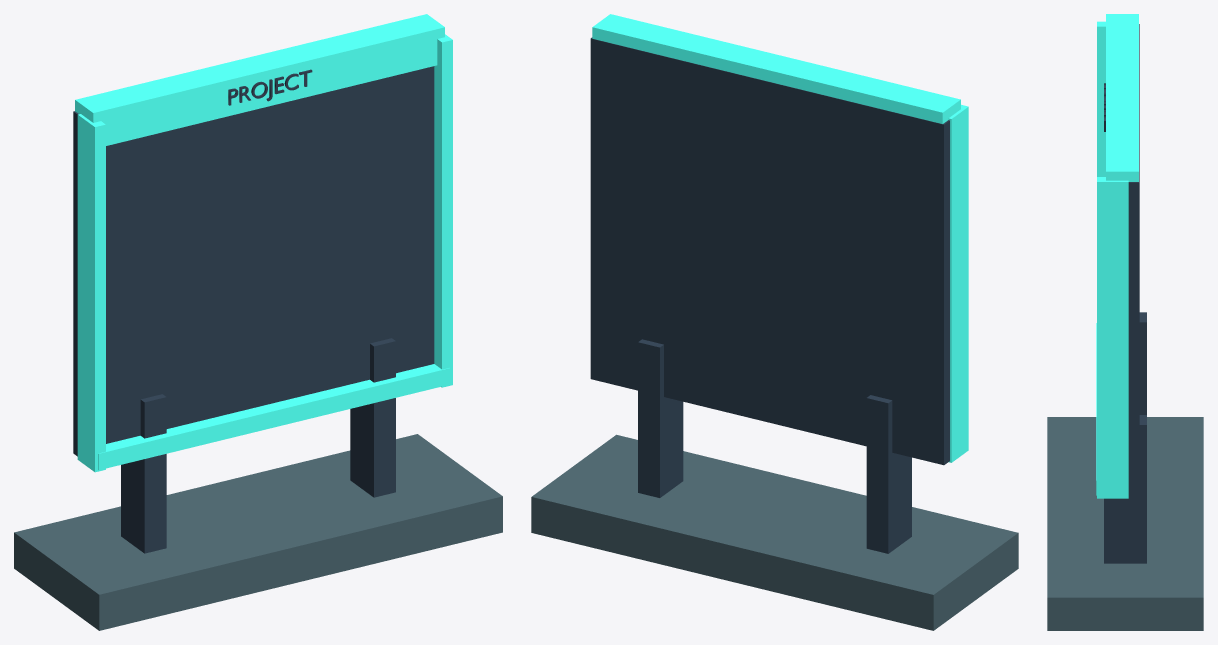
Rendered from project-display.glb.
The picture shows the model from 3 angles, left to right: view 1: azimuth 30°, elevation 25°; view 2: azimuth 150°, elevation 25°; view 3: azimuth 270°, elevation 25°; orthographic projection. The views are drawn at different scales.
Parts seen in each view (by area): view 1: Display back, Foot, Project label bar, Frame rail, Bottom rail, Frame rail.001, Support, Support.001, Display lettering; view 2: Display back, Foot, Project label bar, Frame rail, Support, Support.001; view 3: Foot, Frame rail.001, Project label bar, Display back, Support.001, Frame rail, Support.
Boxes of the visible parts, left/top/right/bottom form: Display back: left=73, top=66, right=434, bottom=456; Foot: left=14, top=434, right=502, bottom=630; Project label bar: left=75, top=14, right=444, bottom=145; Frame rail: left=77, top=114, right=105, bottom=472; Bottom rail: left=98, top=364, right=450, bottom=470; Frame rail.001: left=434, top=34, right=452, bottom=387; Support: left=121, top=394, right=166, bottom=553; Support.001: left=350, top=338, right=395, bottom=497; Display lettering: left=228, top=69, right=312, bottom=105; Display back: left=590, top=37, right=949, bottom=465; Foot: left=531, top=434, right=1018, bottom=630; Project label bar: left=592, top=14, right=960, bottom=123; Frame rail: left=948, top=104, right=968, bottom=462; Support: left=866, top=395, right=911, bottom=553; Support.001: left=638, top=339, right=683, bottom=497; Foot: left=1047, top=417, right=1203, bottom=630; Frame rail.001: left=1097, top=177, right=1128, bottom=498; Project label bar: left=1106, top=14, right=1138, bottom=181; Display back: left=1128, top=24, right=1139, bottom=496; Support.001: left=1104, top=415, right=1146, bottom=563; Frame rail: left=1097, top=21, right=1105, bottom=176; Support: left=1139, top=312, right=1146, bottom=414.
Size of the model in its own units: 2.57 by 2.97 by 0.94.
